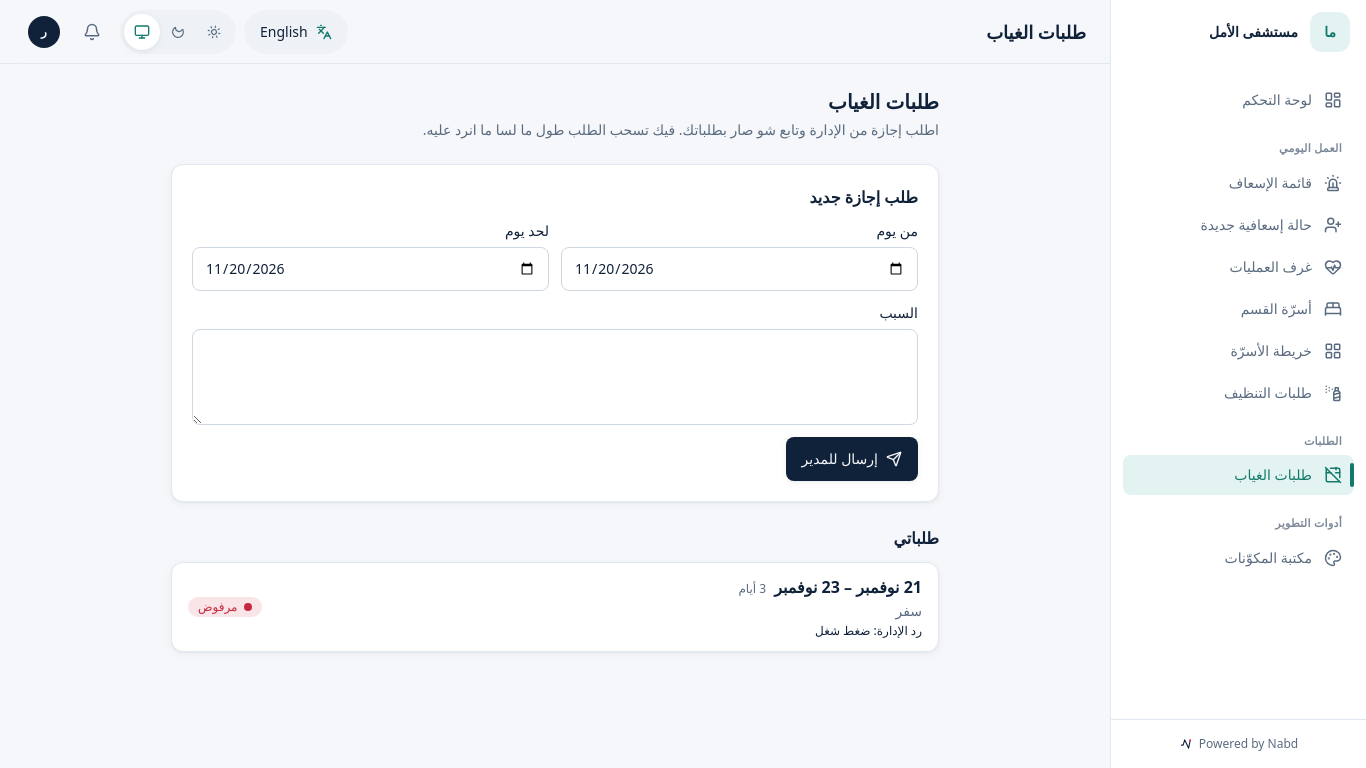
Test: LeavePage (task 4.5) › says when the days were already asked for
The image size is (1366, 768).
Type "تكرار" into the text box labelled "السبب". click: point(555, 377)
box: [192,329,918,425]
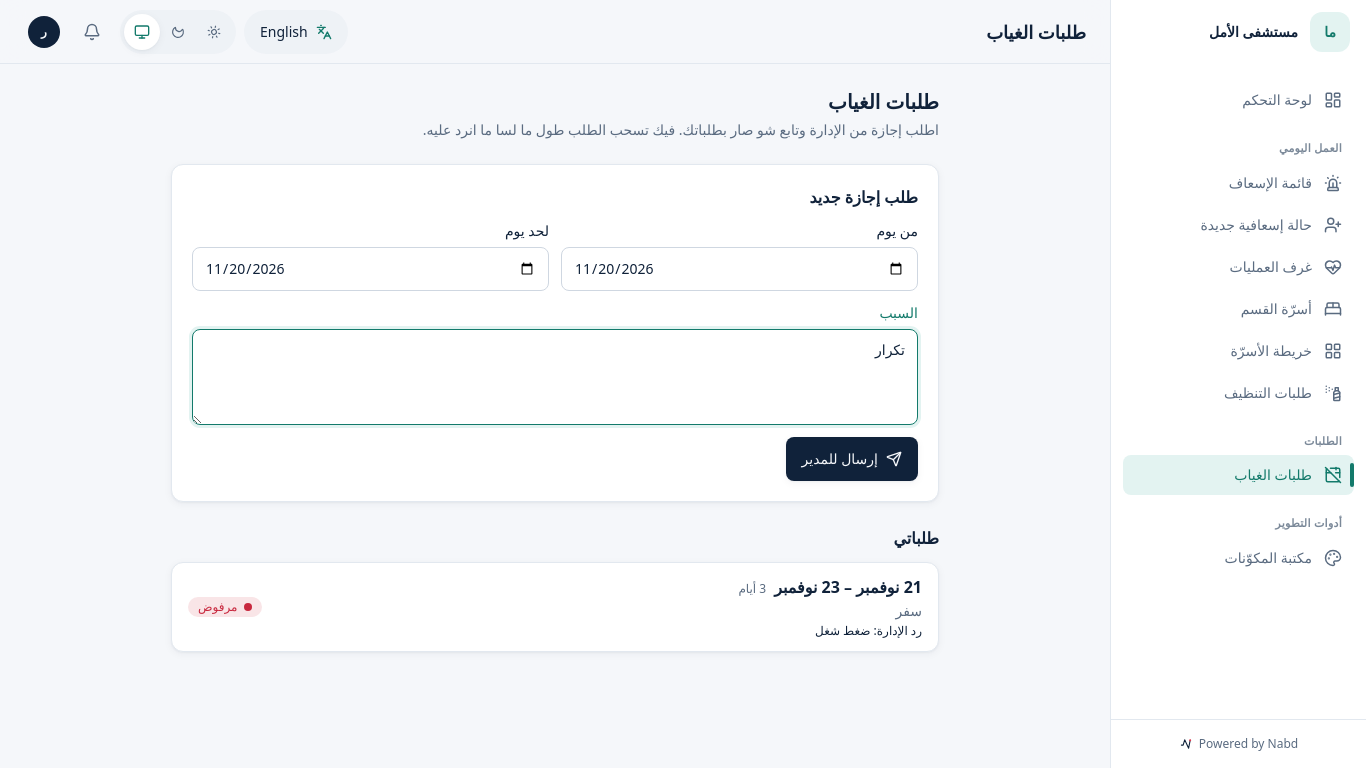
Click the button "إرسال للمدير". click: point(852, 459)
box: [786,437,918,481]
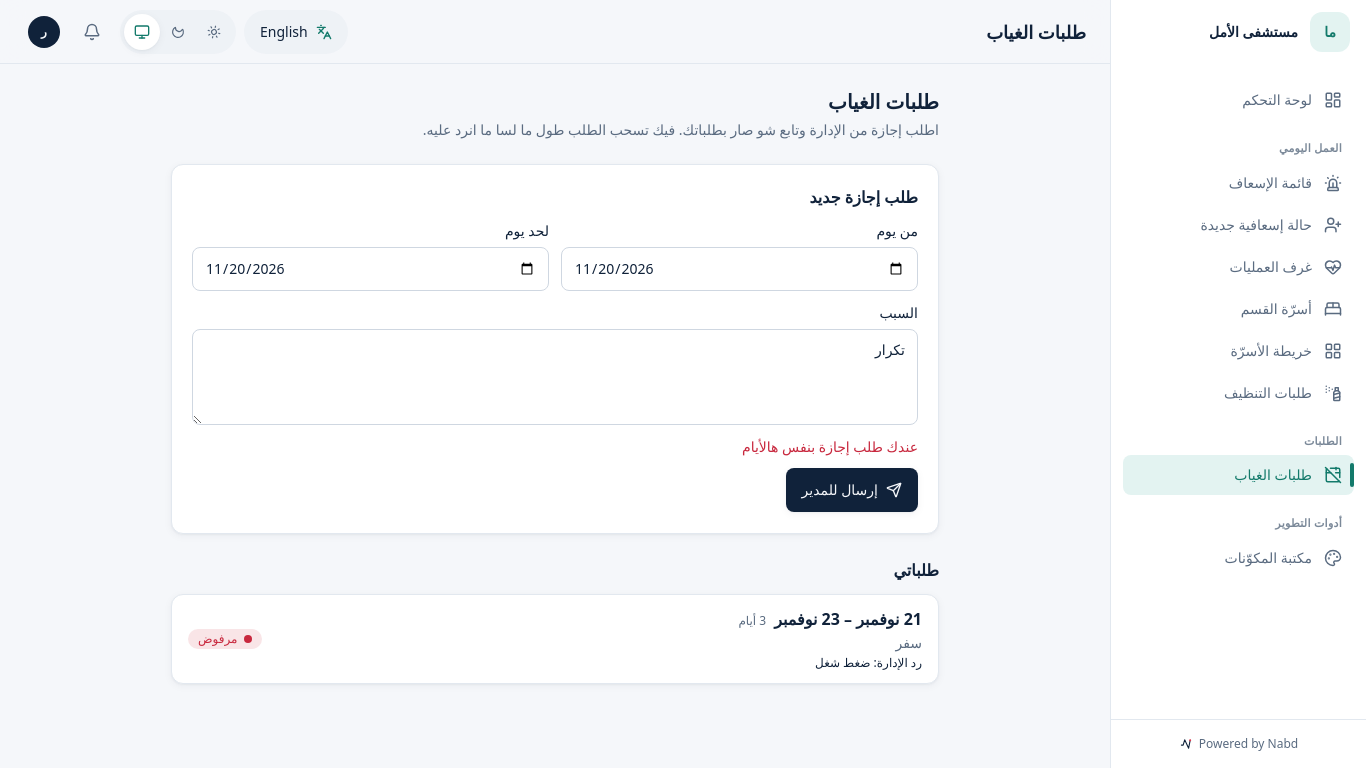
Expected: the message reads "عندك طلب إجازة بنفس هالأيام", [742,437,918,456]
